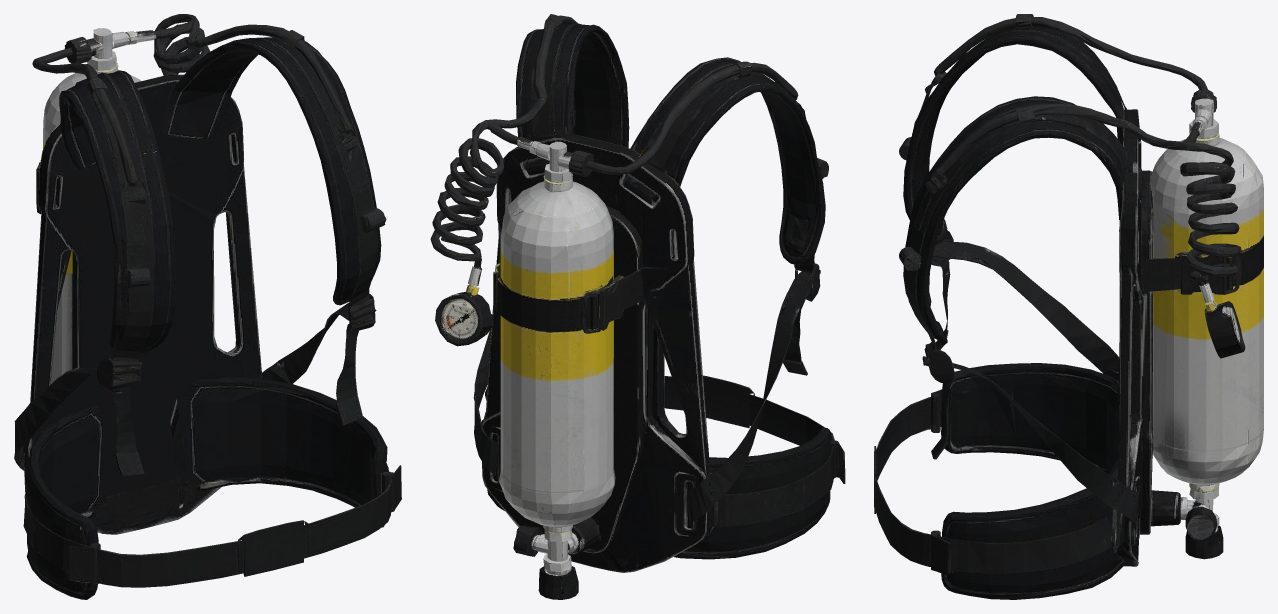
Rendered from ewm_airtank.glb.
3 views of the same model, side by side, from view 1: azimuth 30°, elevation 25°; view 2: azimuth 150°, elevation 25°; view 3: azimuth 270°, elevation 25° (orthographic). The views are drawn at different scales.
Visible parts, largest first — view 1: ewm_airtank; view 2: ewm_airtank; view 3: ewm_airtank.
Part boxes in pixels (left/top/right/bottom): ewm_airtank: left=14, top=14, right=401, bottom=599; ewm_airtank: left=430, top=14, right=845, bottom=599; ewm_airtank: left=874, top=14, right=1263, bottom=599.
Bounding box in the file's own units: 0.426 × 0.62 × 0.4463.
Materials: 1 (1 with a texture image).
